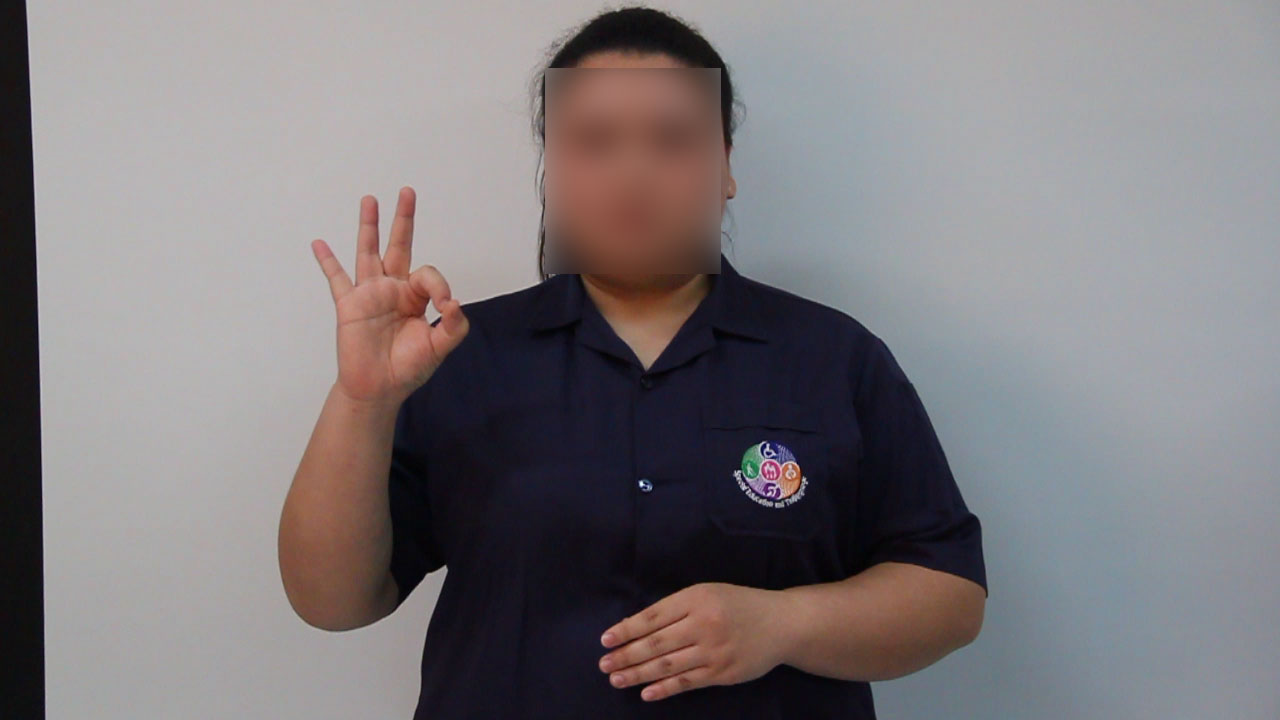for: (291, 173, 487, 401)
